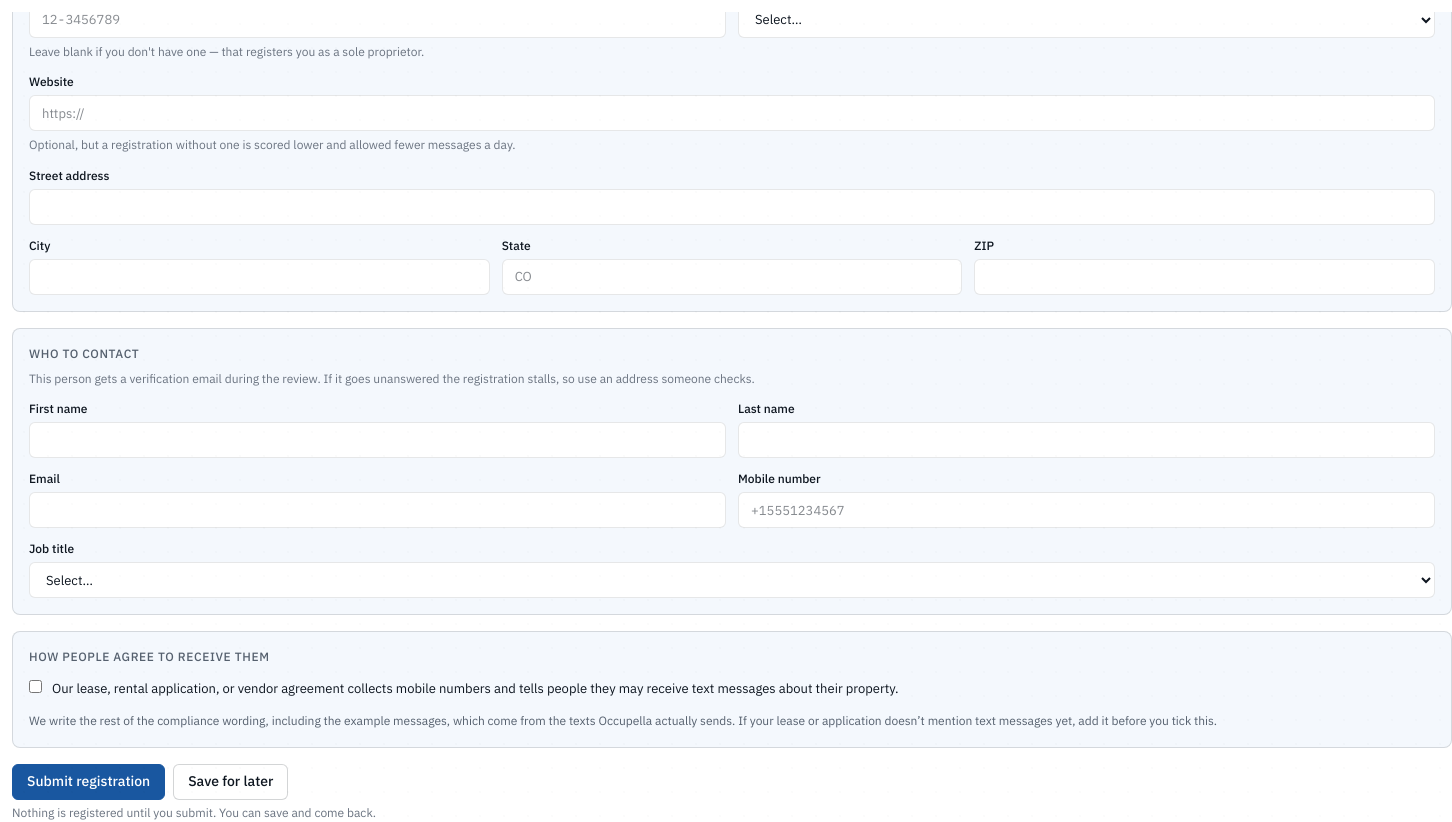
Test case: A2pRegistrationForm — when problems are shown › shows what the customer just typed, not what the row held on load
The image size is (1452, 822).
(page scrolled)
Step 1. Click the button with test id "a2p-submit" → (89, 782), box [12,764,165,800]
(page scrolled)
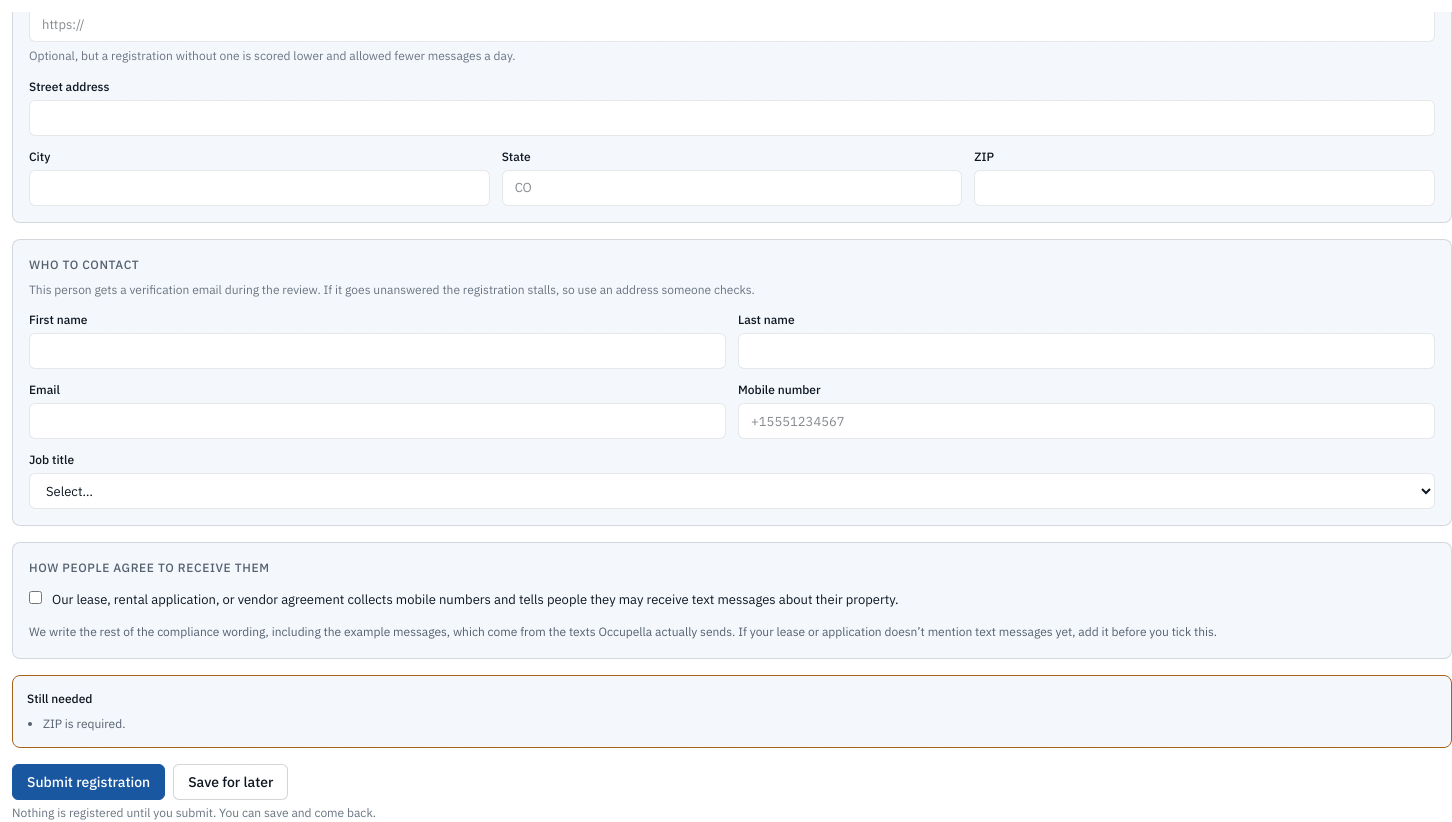
Result: the element with test id "a2p-problems" shows "ZIP is required." at [43,716,125,731]
